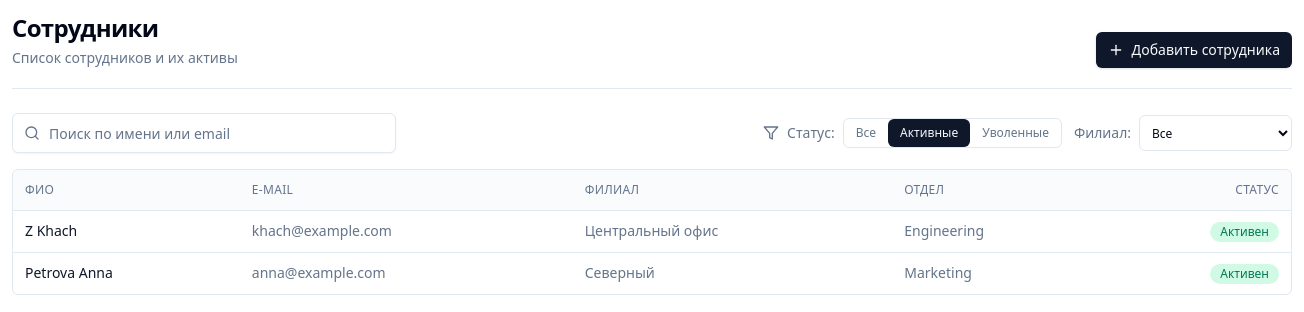
Test: EmployeeListPage › branch filter narrows the visible rows to a single branch
Expected: the link "Z Khach" is shown, [25,221,77,240]
Expected: the link "Petrova Anna" is shown, [25,263,113,282]
Select "Северный" in the dropdown labelled "Филиал" at (1216,133), box [1139,115,1292,151]
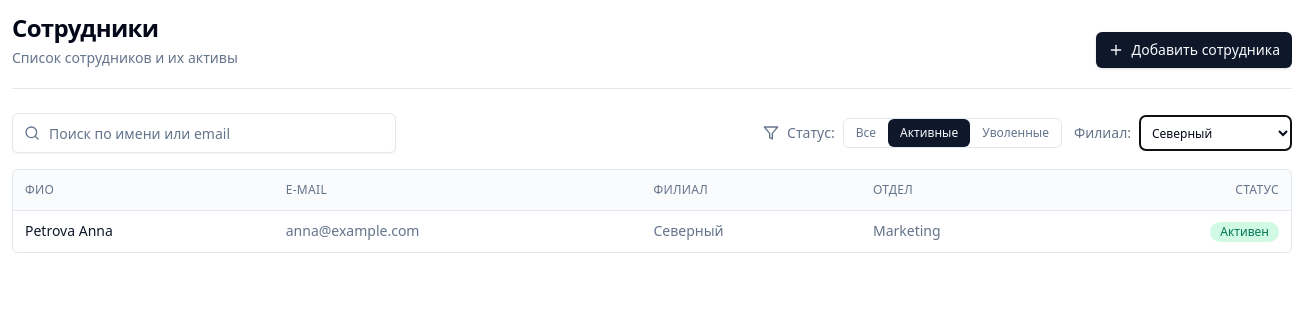
Expected: the link "Petrova Anna" is shown, [25,221,113,240]
Expected: the link "Z Khach" is gone
